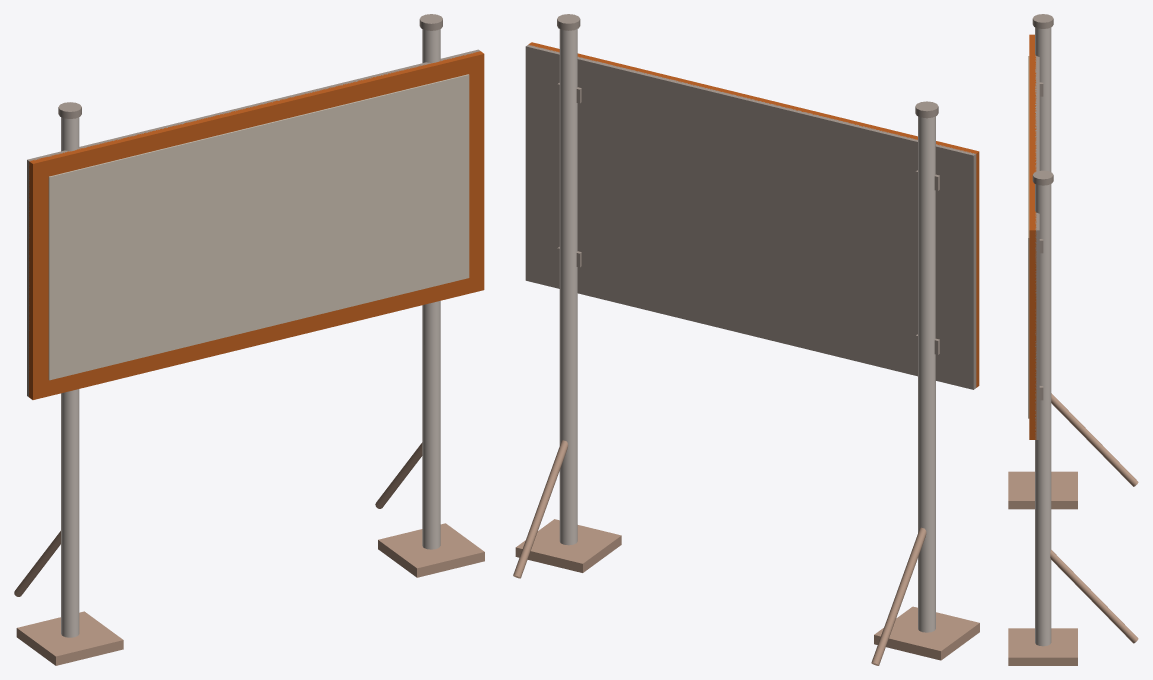
The model's file is D15_blank_sign.glb.
The picture shows the model from 3 angles, left to right: view 1: azimuth 30°, elevation 25°; view 2: azimuth 150°, elevation 25°; view 3: azimuth 270°, elevation 25°; orthographic projection. The views are drawn at different scales.
Parts seen in each view (by area): view 1: sign_face, sign_border, post (×2), foot_plate (×2), sign_back; view 2: sign_back, post (×2), foot_plate (×2), sign_border, post_brace (×2); view 3: post (×2), foot_plate (×2), sign_border, post_brace (×2), sign_back, sign_face, post_cap (×2).
Part boxes in pixels (x1,y1,x2,y2): sign_face: (48, 74, 469, 380); sign_border: (29, 51, 484, 399); post (×2): (61, 29, 440, 637); foot_plate (×2): (16, 523, 484, 665); sign_back: (27, 49, 479, 396); sign_back: (525, 44, 976, 389); post (×2): (559, 29, 935, 632); foot_plate (×2): (515, 519, 979, 660); sign_border: (528, 42, 979, 387); post_brace (×2): (513, 440, 926, 665); post (×2): (1035, 27, 1051, 646); foot_plate (×2): (1008, 471, 1077, 665); sign_border: (1029, 34, 1036, 439); post_brace (×2): (1050, 393, 1138, 643); sign_back: (1035, 55, 1039, 439); sign_face: (1028, 56, 1029, 418); post_cap (×2): (1032, 14, 1053, 185).
Size of the model in its own units: 2 by 2.27 by 0.562.
